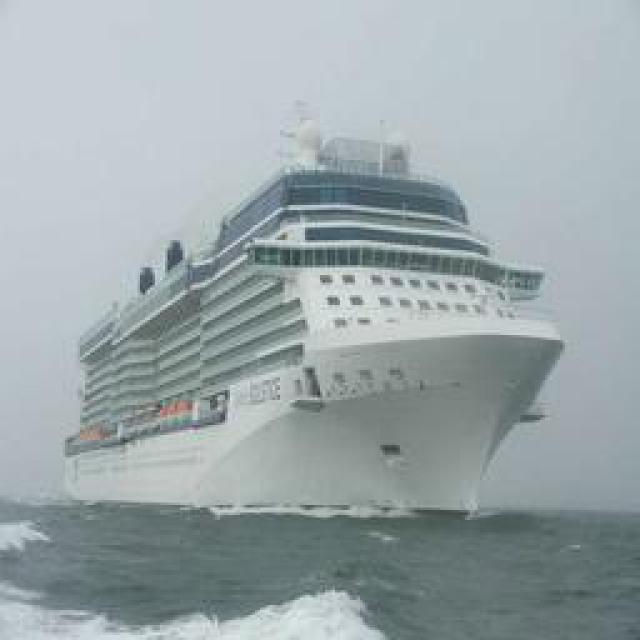Ship: (55, 119, 563, 522)
